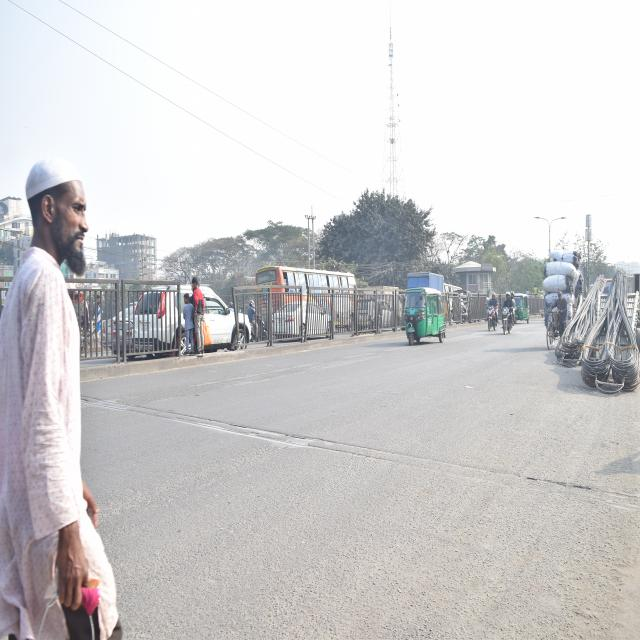car: (164, 274, 253, 366)
motorbike: (482, 292, 499, 338), (501, 294, 517, 335)
